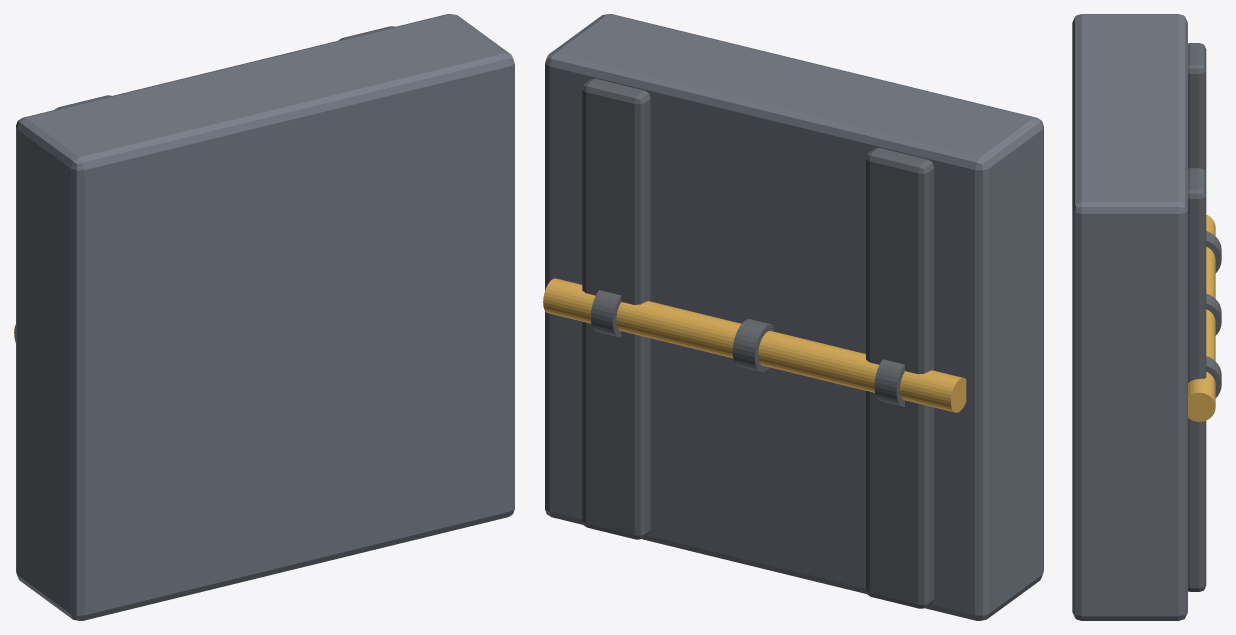
Rendered from station_wall_module.glb.
The picture shows the model from 3 angles, left to right: view 1: azimuth 30°, elevation 25°; view 2: azimuth 150°, elevation 25°; view 3: azimuth 270°, elevation 25°; orthographic projection. The views are drawn at different scales.
Visible parts, largest first — view 1: station_wall_module; view 2: station_wall_module; view 3: station_wall_module.
Part boxes in pixels (x1,y1,x2,y2): station_wall_module: (14, 14, 514, 620); station_wall_module: (543, 14, 1043, 620); station_wall_module: (1072, 14, 1221, 620).
Size of the model in its own units: 1 by 1 by 0.323.
